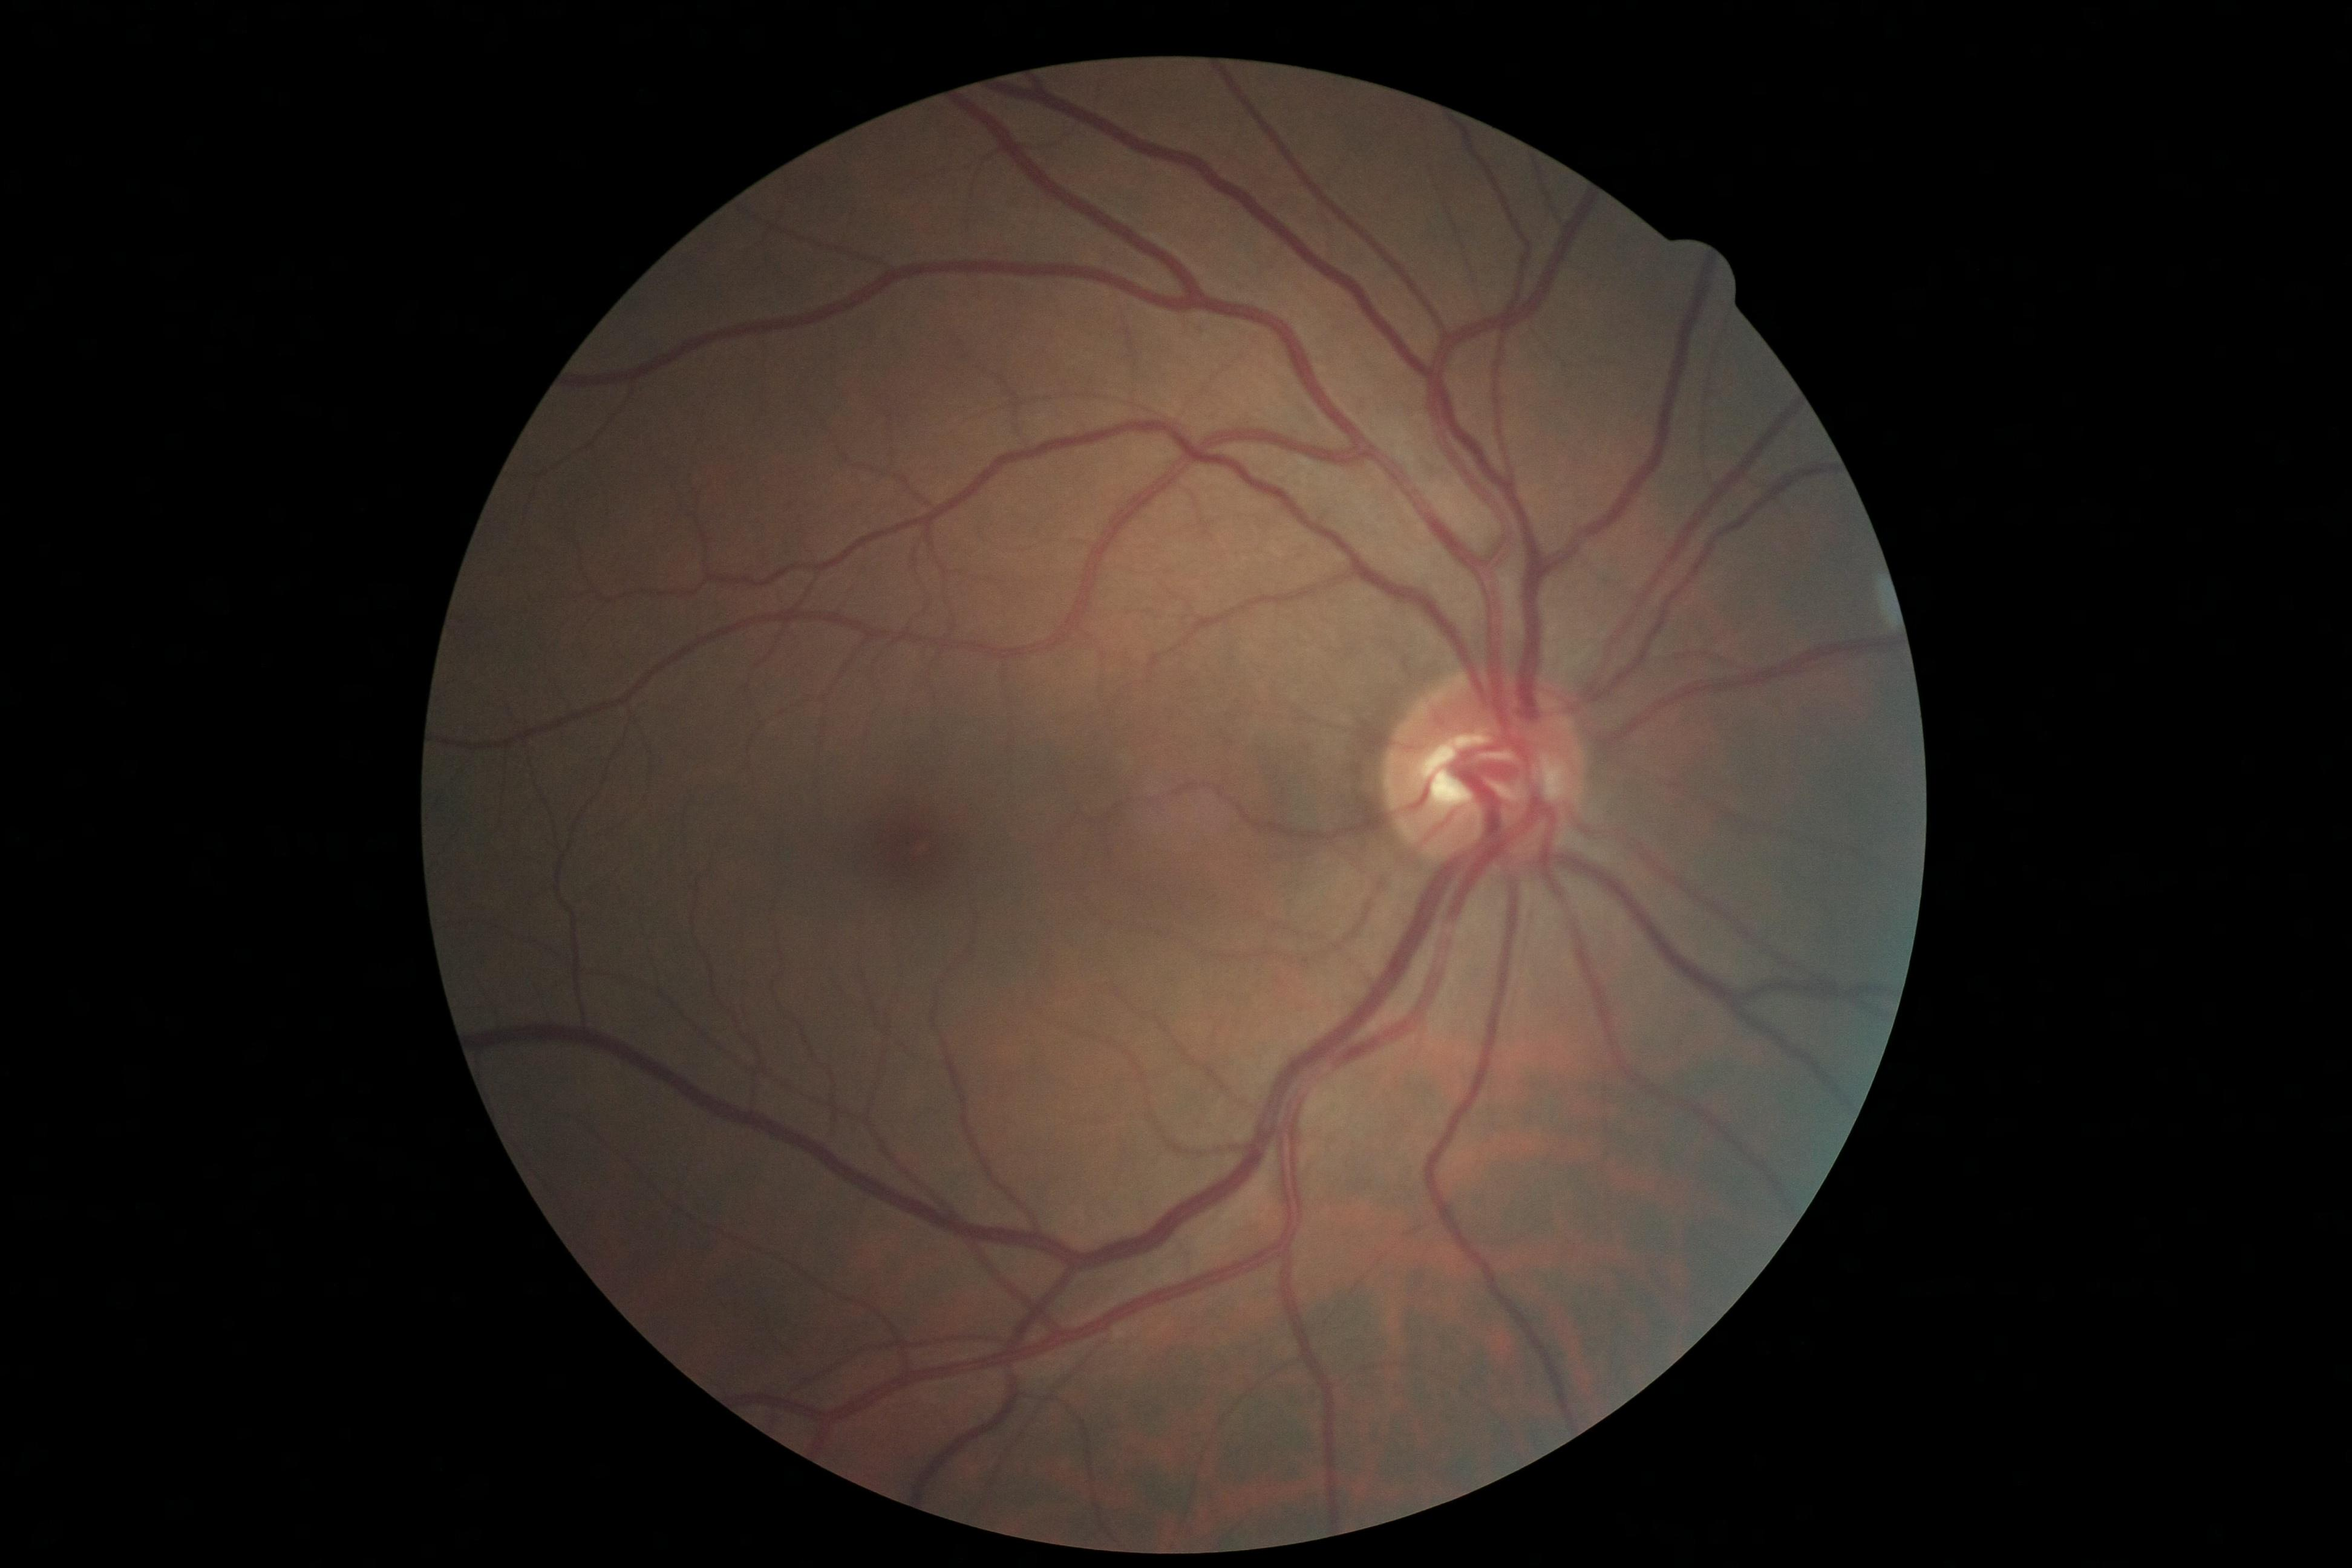Optic-nerve: (1382, 670, 1594, 878)
macula: (859, 799, 965, 915)
notch: (1667, 226, 1759, 327)
